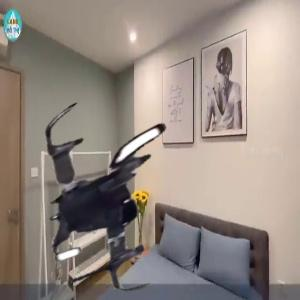drone: (14, 90, 225, 300)
